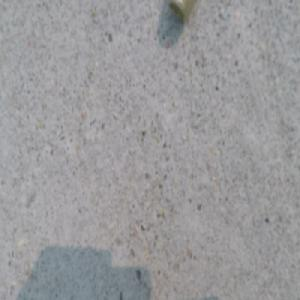BoltNutSet: (169, 1, 193, 20)
